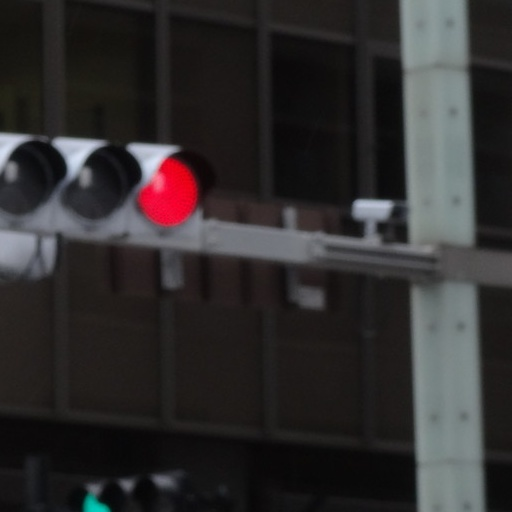Traffic_Signal_Red: (7, 124, 204, 234)
